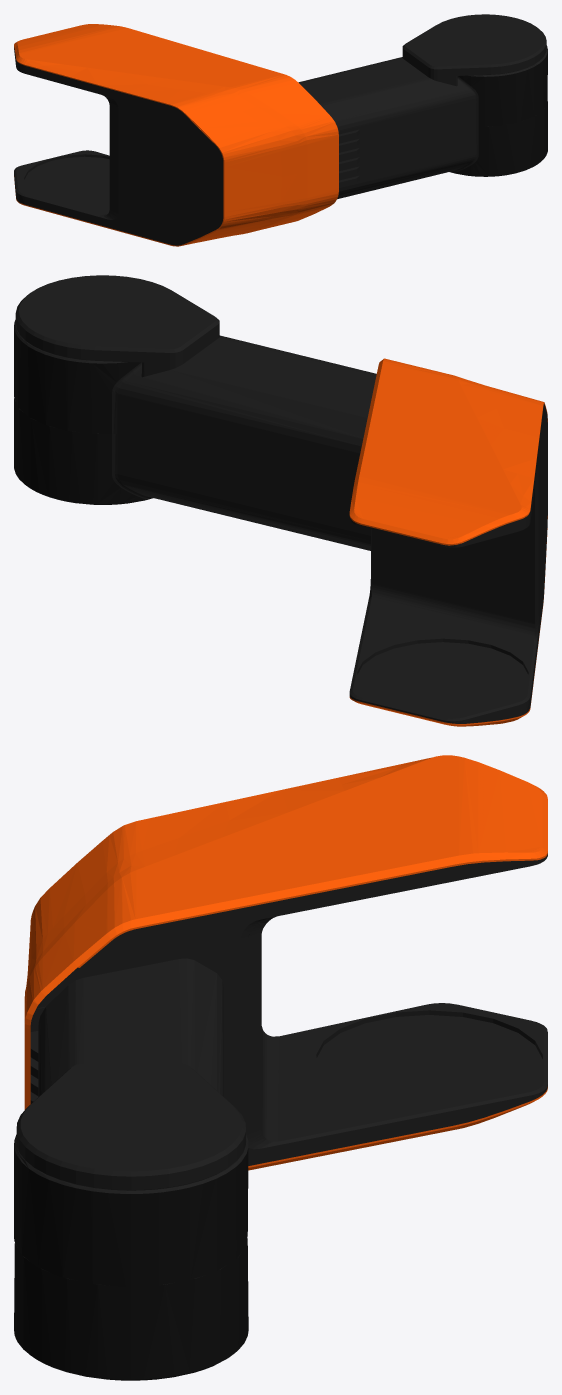
3 renders of one model, top to bottom at view 1: azimuth 30°, elevation 25°; view 2: azimuth 150°, elevation 25°; view 3: azimuth 270°, elevation 25°, orthographic. The views are drawn at different scales.
Parts seen in each view (by area): view 1: arm_link3; view 2: arm_link3; view 3: arm_link3.
Boxes of the visible parts, <box> form: arm_link3: <box>14,14,547,246</box>; arm_link3: <box>14,275,547,726</box>; arm_link3: <box>14,755,547,1380</box>.
Size of the model in its own units: 0.2386 by 0.0764 by 0.1352.
